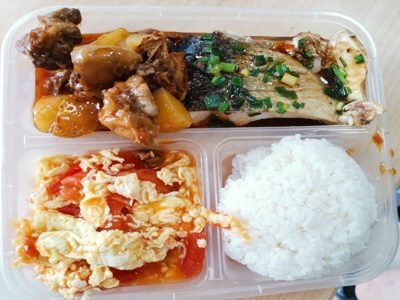jdxhs: (21, 149, 196, 282)
jrtd: (14, 13, 189, 132)
rice: (233, 142, 381, 269)
yd: (201, 29, 368, 125)
